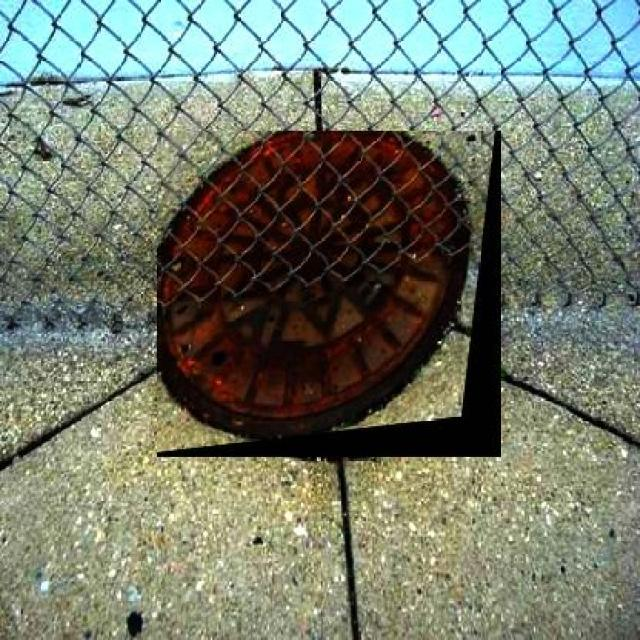Manhole: (157, 132, 500, 458)
